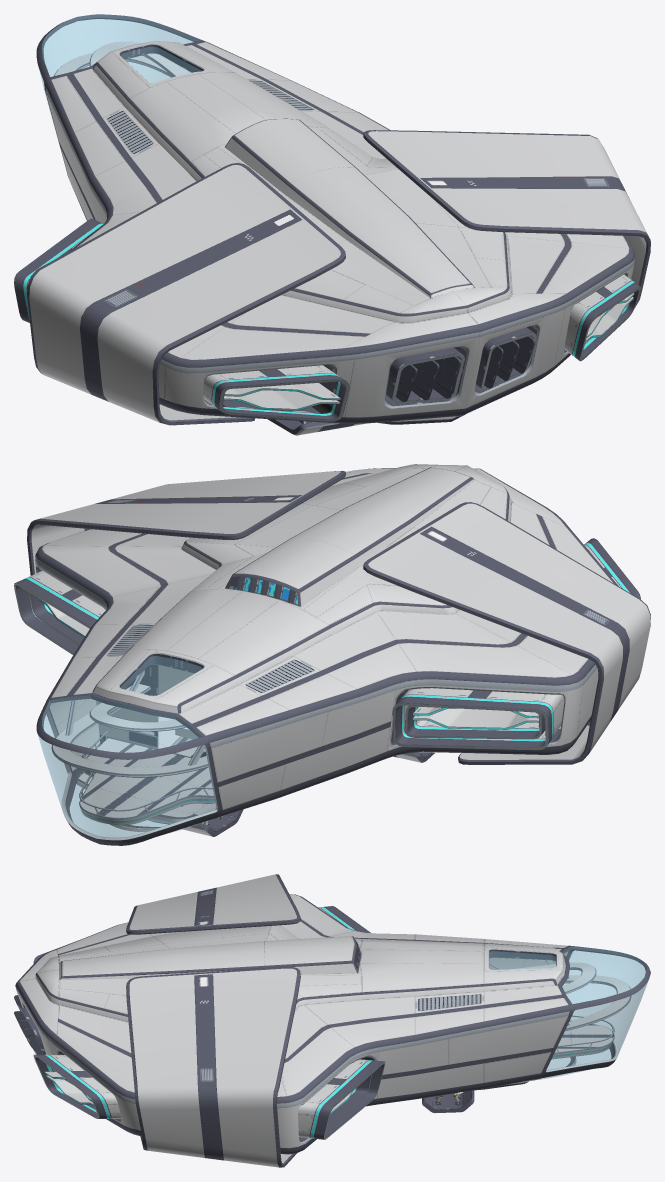
The model's file is Spaceship_Constellation_Body_1.FBX.
3 renders of one model, top to bottom at view 1: azimuth 30°, elevation 25°; view 2: azimuth 150°, elevation 25°; view 3: azimuth 270°, elevation 25°, orthographic. The views are drawn at different scales.
Visible parts, largest first — view 1: Spaceship_Constellation_Body_1, Glass, Glass_Interior, Light_02, Gear_02, Light_01; view 2: Spaceship_Constellation_Body_1, Glass, Cockpit_Platform_01, Light_01, Glass_Interior, Light_02, Gear_03; view 3: Spaceship_Constellation_Body_1, Glass, Glass_Interior, Cockpit_Platform_01, Light_01, Gear_03, Light_02.
Boxes of the visible parts, box(x1,y1,x2,y2) form: Spaceship_Constellation_Body_1: box(14, 14, 650, 425); Glass: box(40, 15, 199, 116); Glass_Interior: box(40, 19, 193, 111); Light_02: box(89, 41, 190, 76); Gear_02: box(267, 419, 367, 435); Light_01: box(54, 53, 172, 77); Spaceship_Constellation_Body_1: box(14, 464, 650, 845); Glass: box(38, 656, 217, 839); Cockpit_Platform_01: box(79, 730, 215, 825); Light_01: box(51, 700, 208, 777); Glass_Interior: box(38, 676, 209, 837); Light_02: box(89, 670, 185, 731); Gear_03: box(182, 754, 243, 836); Spaceship_Constellation_Body_1: box(14, 874, 650, 1167); Glass: box(490, 946, 647, 1078); Glass_Interior: box(547, 950, 647, 1076); Cockpit_Platform_01: box(551, 1015, 614, 1059); Light_01: box(545, 960, 631, 1030); Gear_03: box(422, 1090, 474, 1113); Light_02: box(489, 962, 596, 993).
Size of the model in its own units: 71.79 by 24.53 by 87.75.
